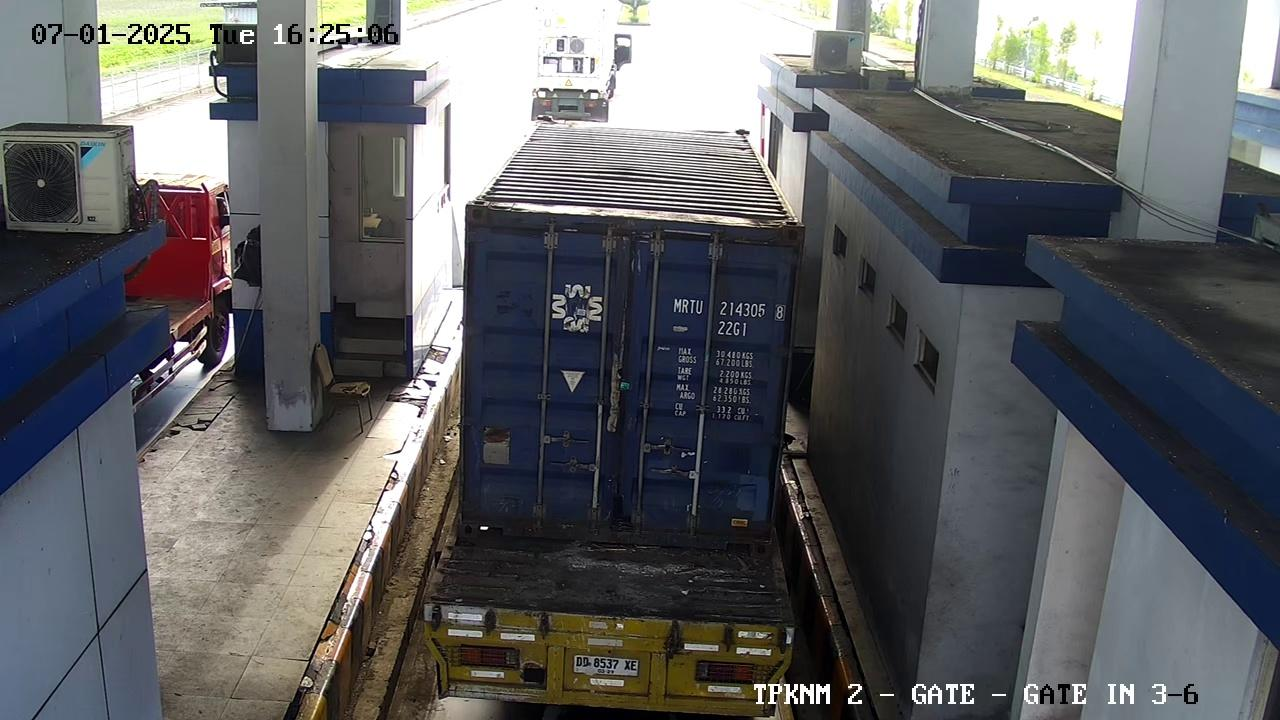Container_ID: (659, 288, 794, 317)
plate_number: (563, 643, 653, 693)
